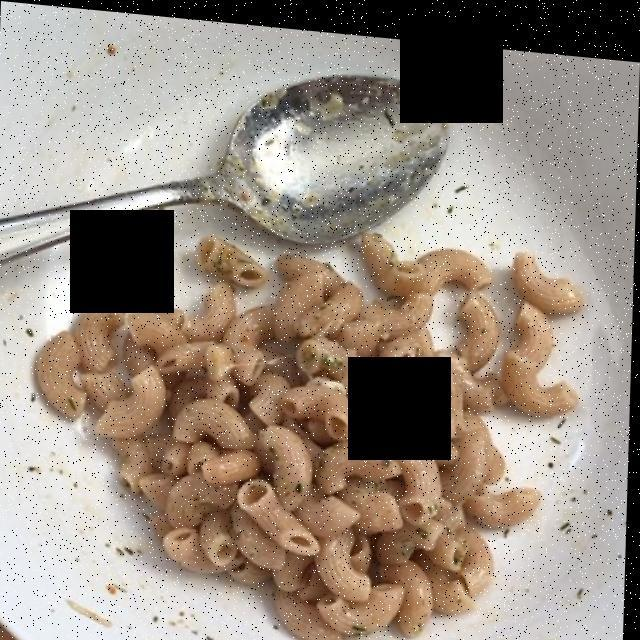pasta: (49, 245, 570, 620)
